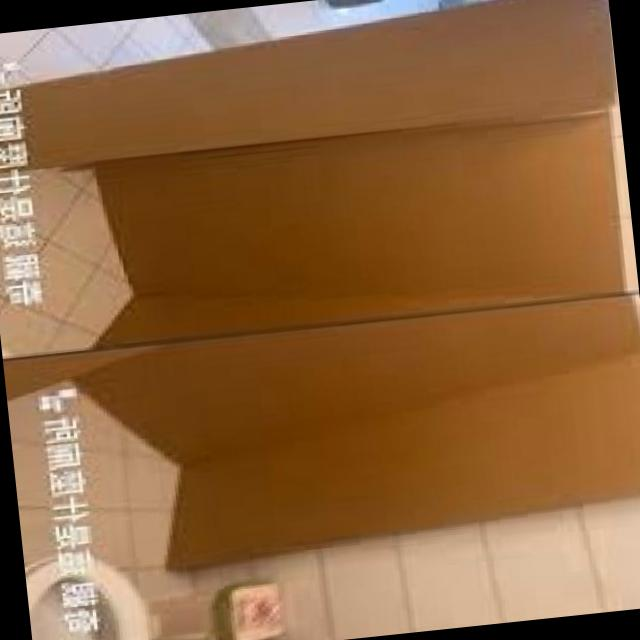cardboard paper: (0, 0, 640, 568)
